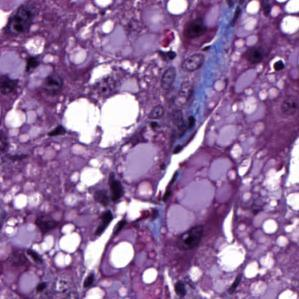ballooning: (164, 147, 239, 240), (64, 93, 141, 150)
